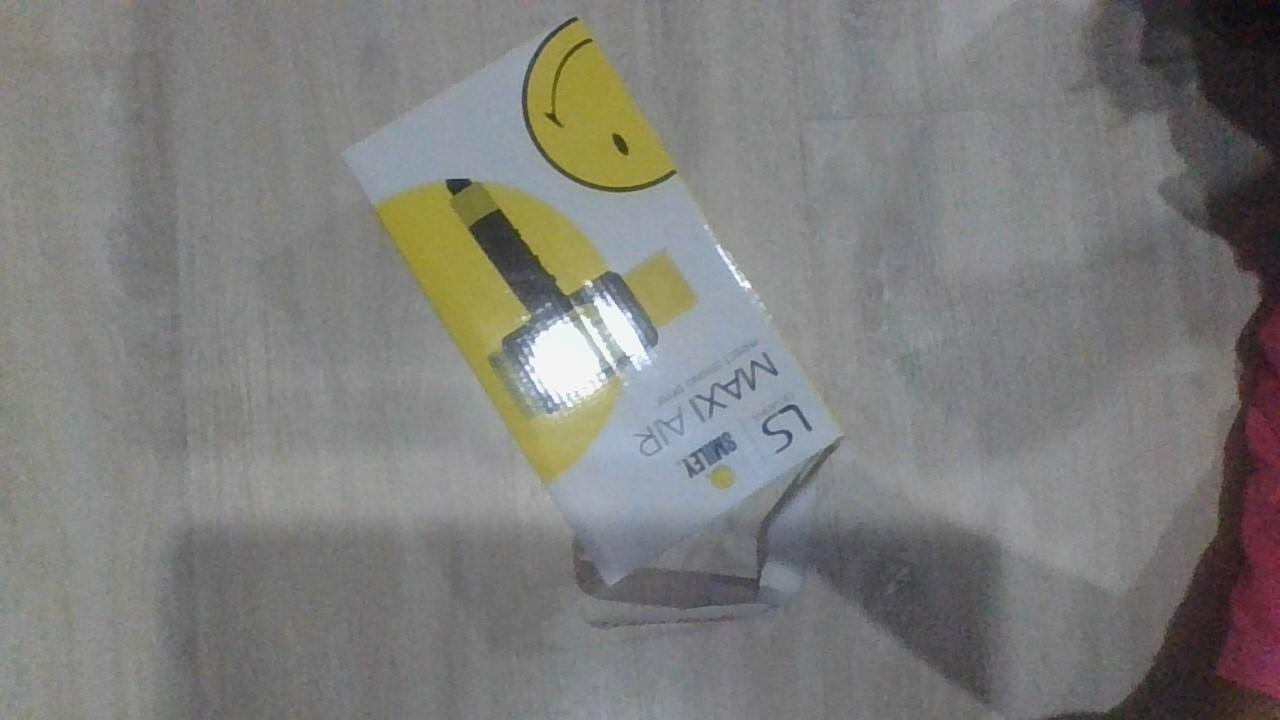Dryer: (339, 14, 847, 614)
